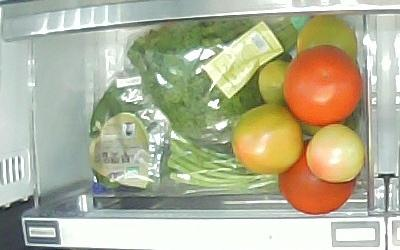tomato: (283, 45, 363, 125), (279, 139, 353, 214), (232, 104, 304, 174), (307, 124, 364, 182), (298, 15, 358, 63), (258, 58, 290, 107)
